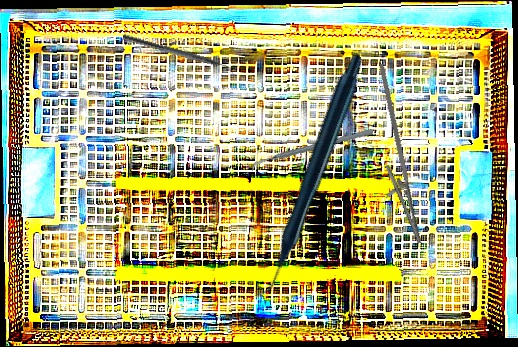Chopper: (249, 113, 374, 187), (120, 33, 238, 79)
Handpiece: (175, 52, 441, 299)
Needle Holder: (344, 63, 444, 249)
